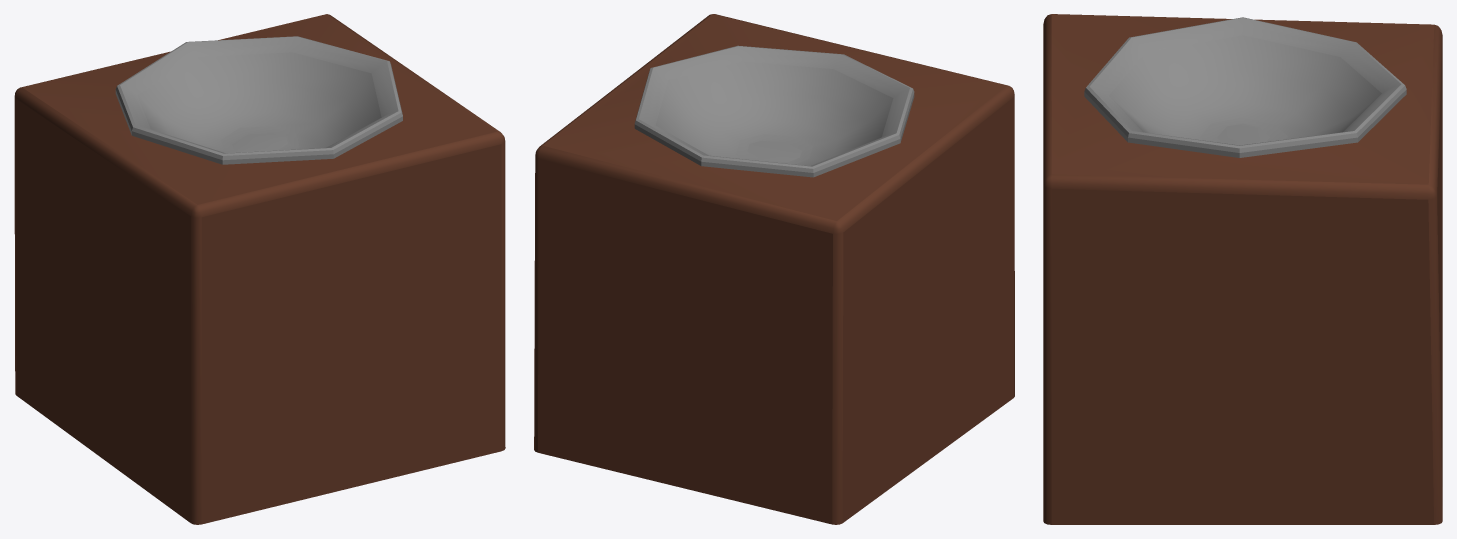
File: DishHolder.fbx
The picture shows the model from 3 angles, left to right: view 1: azimuth 30°, elevation 25°; view 2: azimuth 150°, elevation 25°; view 3: azimuth 270°, elevation 25°; orthographic projection. The views are drawn at different scales.
Parts seen in each view (by area): view 1: Dish Holder, Dish Holder Base; view 2: Dish Holder, Dish Holder Base; view 3: Dish Holder, Dish Holder Base.
Boxes of the visible parts, x1,y1,x2,y2 form: Dish Holder: (14, 14, 505, 524); Dish Holder Base: (115, 36, 402, 164); Dish Holder: (534, 14, 1014, 524); Dish Holder Base: (634, 45, 914, 177); Dish Holder: (1043, 14, 1442, 524); Dish Holder Base: (1084, 17, 1406, 157).
Bounding box in the file's own units: 99.96 × 100 × 99.97.
